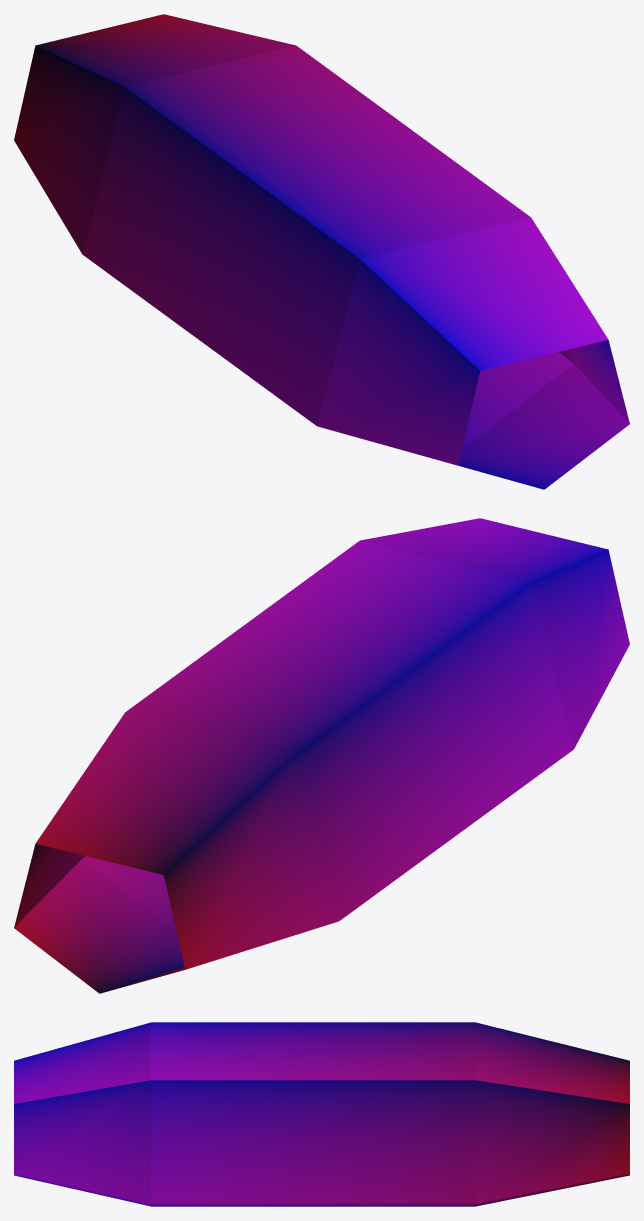
3 renders of one model, top to bottom at view 1: azimuth 30°, elevation 25°; view 2: azimuth 150°, elevation 25°; view 3: azimuth 270°, elevation 25°, orthographic. The views are drawn at different scales.
Parts seen in each view (by area): view 1: model_2CB8; view 2: model_2CB8; view 3: model_2CB8.
Part boxes in pixels (<box>): model_2CB8: <box>14,14,629,489</box>; model_2CB8: <box>14,518,629,993</box>; model_2CB8: <box>14,1022,629,1206</box>.
Size of the model in its own units: 12.09 by 10.08 by 36.28.
